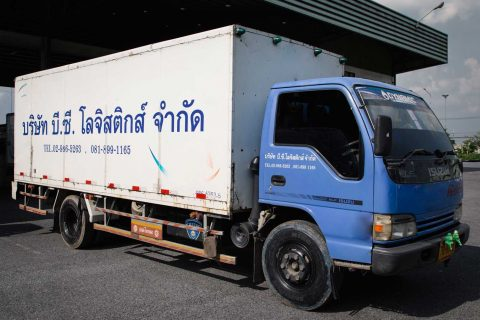truck: (10, 28, 470, 311)
